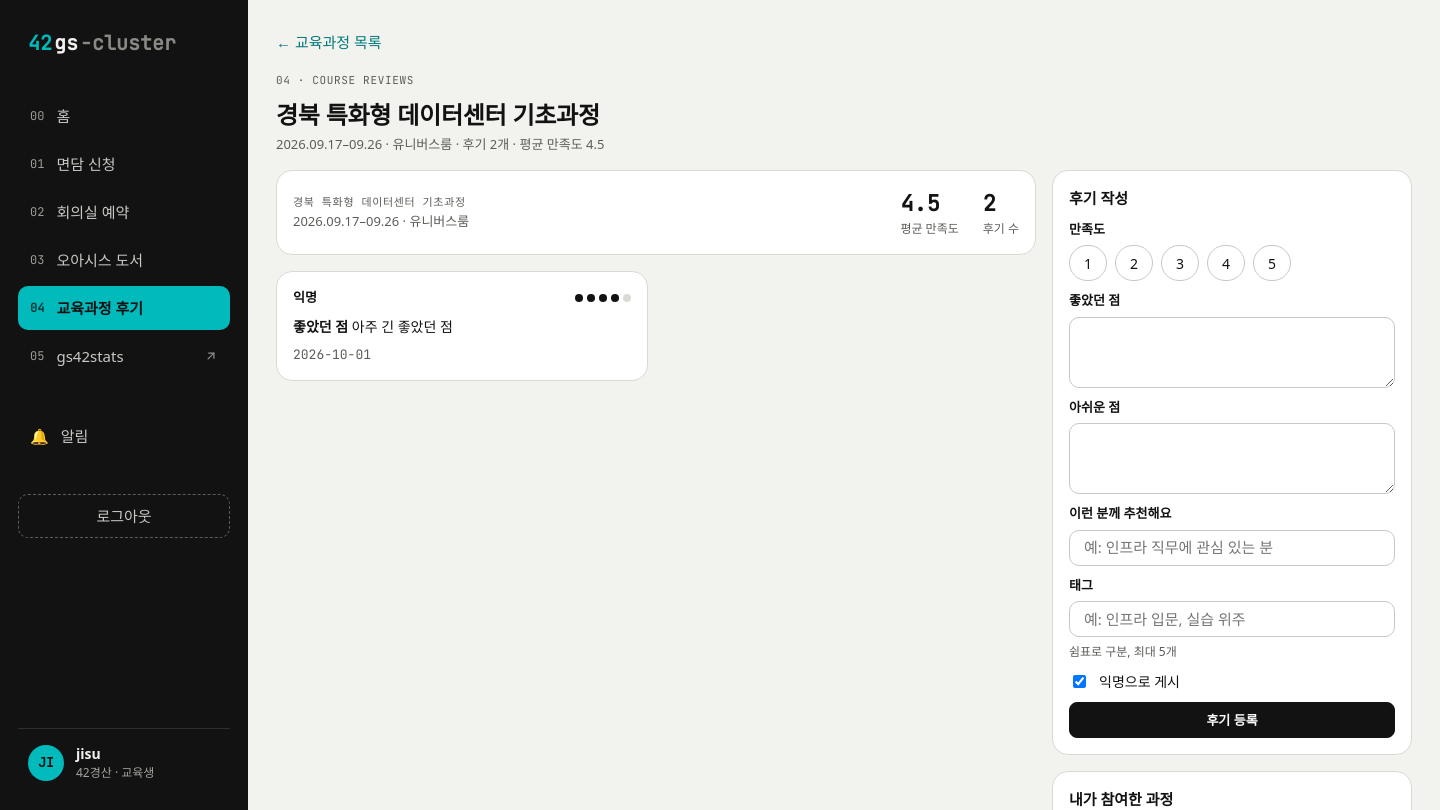
Test case: 교육과정 후기 게시판 › 카드를 누르면 좋았던 점·아쉬운 점·추천 대상·태그 전체를 팝업으로 본다
Expected: the heading "경북 특화형 데이터센터 기초과정" is shown, [276,96,604,132]
Click the button with aria-label "익명 후기 전문 보기".
click(321, 326)  # box [276,271,648,381]
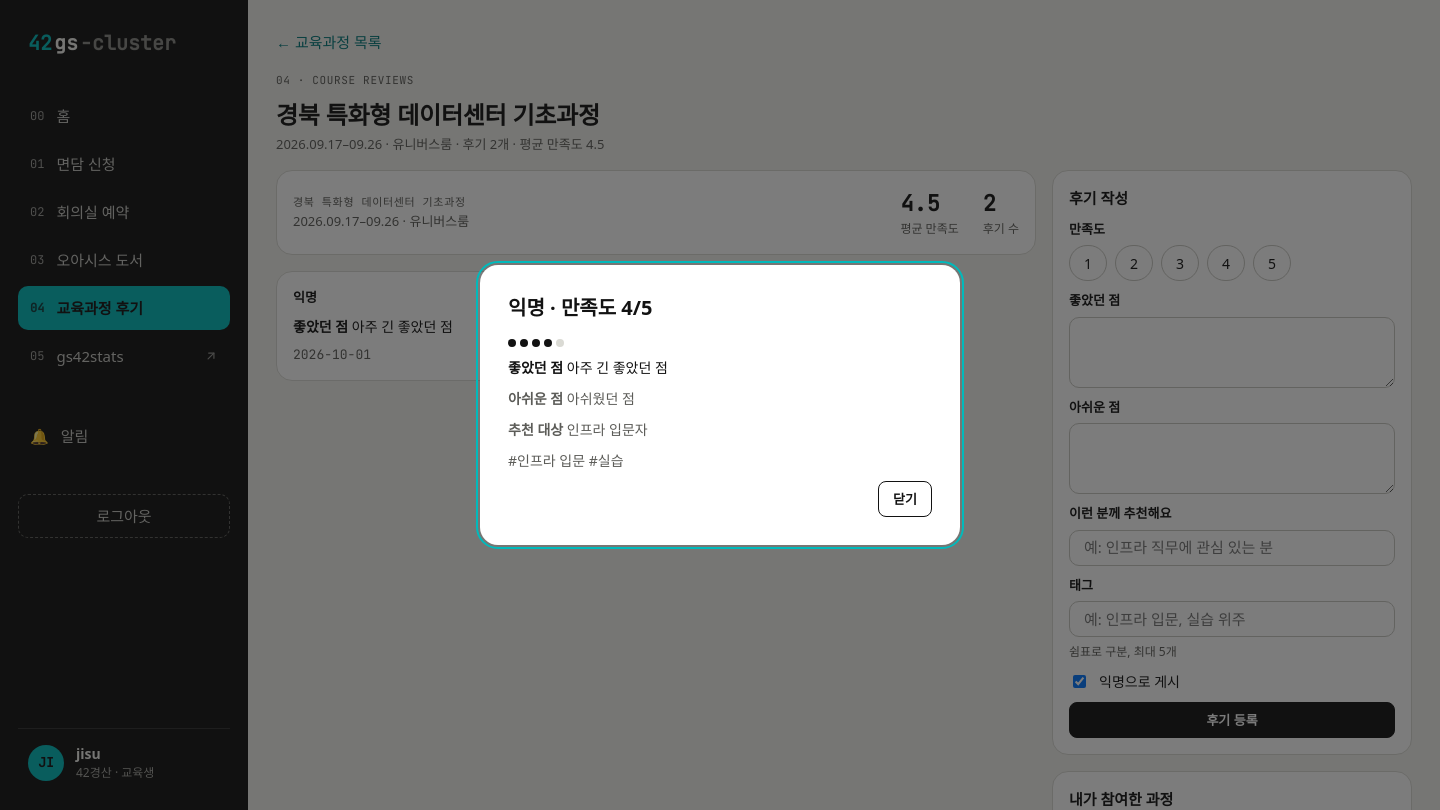
Expected: the text "아주 긴 좋았던 점" is shown, [567,358,668,377]
Expected: the text "아쉬웠던 점" is shown, [567,389,635,408]
Expected: the text "인프라 입문자" is shown, [567,420,648,439]
